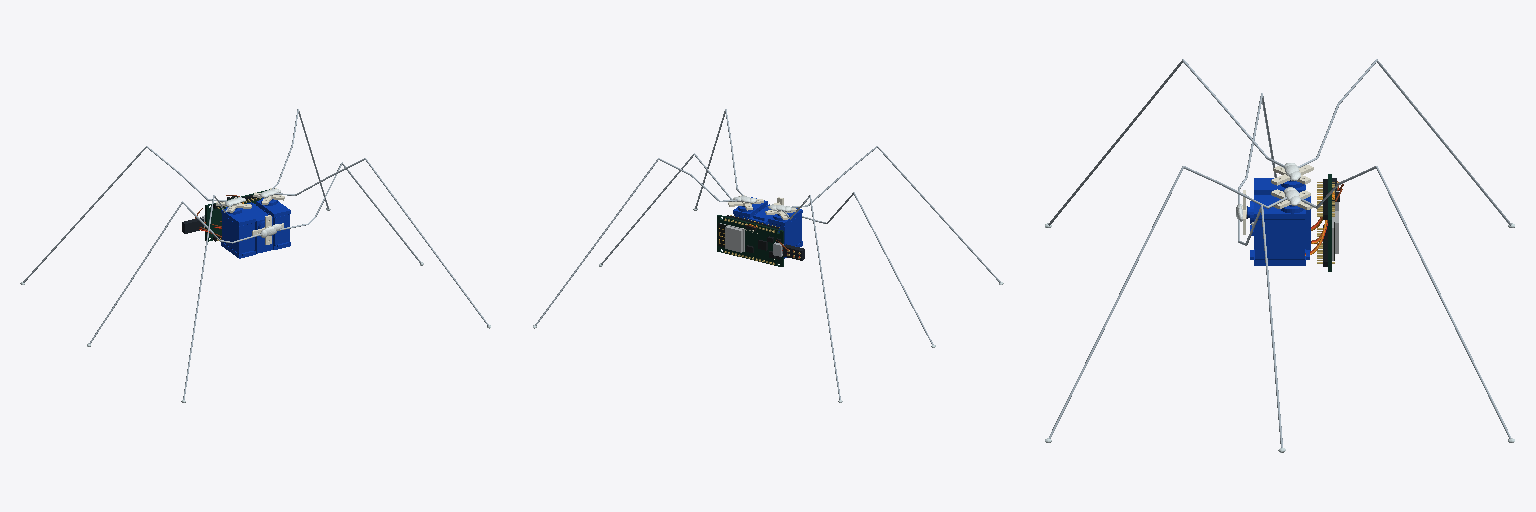
robot.urdf — Makada photo-informed hexapod:
<?xml version="1.0"?>
<!-- Photo-informed native CAD reconstruction, converted mm -> m. No measured dynamics. -->
<robot name="Makada photo-informed hexapod">
  <cutucircuits assumptions="All masses, inertia, friction and collision envelopes are estimates. Rigid wire legs and glue; no compliance or validated gait. Meshes preserve native CAD visuals. Servo effort and pulse-to-angle calibration are not measured."/>
  <link name="body">
    <inertial><origin xyz="0 0.006 0.056"/><mass value="0.047"/><inertia ixx="0.000025" ixy="0" ixz="0" iyy="0.000012" iyz="0" izz="0.000025"/></inertial>
    <collision><origin xyz="-0.013 0 0.0575"/><geometry><box size="0.012 0.023 0.029"/></geometry></collision>
    <collision><origin xyz="0.013 0 0.0575"/><geometry><box size="0.012 0.023 0.029"/></geometry></collision>
    <collision><origin xyz="0 -0.0005 0.055"/><geometry><box size="0.012 0.029 0.023"/></geometry></collision>
    <!-- Rear NodeMCU collision envelope includes inward headers and module; estimated. -->
    <collision><origin xyz="0 0.0213 0.0555"/><geometry><box size="0.050 0.010 0.026"/></geometry></collision>
    <collision><origin xyz="-0.033 0.0235 0.0555"/><geometry><box size="0.014 0.004 0.007"/></geometry></collision>
    <visual name="servo-left"><geometry><mesh filename="meshes/servo-left.stl"/></geometry><material name="servo-left"><color rgba="0.09412 0.3098 0.75686 0.96"/></material></visual>
    <visual name="servo-left-seams"><geometry><mesh filename="meshes/servo-left-seams.stl"/></geometry><material name="servo-left-seams"><color rgba="0.06275 0.21961 0.52941 1"/></material></visual>
    <visual name="servo-right"><geometry><mesh filename="meshes/servo-right.stl"/></geometry><material name="servo-right"><color rgba="0.09412 0.3098 0.75686 0.96"/></material></visual>
    <visual name="servo-right-seams"><geometry><mesh filename="meshes/servo-right-seams.stl"/></geometry><material name="servo-right-seams"><color rgba="0.06275 0.21961 0.52941 1"/></material></visual>
    <visual name="servo-tilt"><geometry><mesh filename="meshes/servo-tilt.stl"/></geometry><material name="servo-tilt"><color rgba="0.09412 0.3098 0.75686 0.96"/></material></visual>
    <visual name="servo-tilt-seams"><geometry><mesh filename="meshes/servo-tilt-seams.stl"/></geometry><material name="servo-tilt-seams"><color rgba="0.06275 0.21961 0.52941 1"/></material></visual>
    <visual name="cable-left-0"><geometry><mesh filename="meshes/cable-left-0.stl"/></geometry><material name="cable-left-0"><color rgba="0.54118 0.28627 0.16863 1"/></material></visual>
    <visual name="cable-left-1"><geometry><mesh filename="meshes/cable-left-1.stl"/></geometry><material name="cable-left-1"><color rgba="0.83137 0.26667 0.15686 1"/></material></visual>
    <visual name="cable-left-2"><geometry><mesh filename="meshes/cable-left-2.stl"/></geometry><material name="cable-left-2"><color rgba="0.92941 0.57255 0.18431 1"/></material></visual>
    <visual name="plug-left"><geometry><mesh filename="meshes/plug-left.stl"/></geometry><material name="plug-left"><color rgba="0.15686 0.17647 0.19216 1"/></material></visual>
    <visual name="cable-tilt-0"><geometry><mesh filename="meshes/cable-tilt-0.stl"/></geometry><material name="cable-tilt-0"><color rgba="0.54118 0.28627 0.16863 1"/></material></visual>
    <visual name="cable-tilt-1"><geometry><mesh filename="meshes/cable-tilt-1.stl"/></geometry><material name="cable-tilt-1"><color rgba="0.83137 0.26667 0.15686 1"/></material></visual>
    <visual name="cable-tilt-2"><geometry><mesh filename="meshes/cable-tilt-2.stl"/></geometry><material name="cable-tilt-2"><color rgba="0.92941 0.57255 0.18431 1"/></material></visual>
    <visual name="plug-tilt"><geometry><mesh filename="meshes/plug-tilt.stl"/></geometry><material name="plug-tilt"><color rgba="0.15686 0.17647 0.19216 1"/></material></visual>
    <visual name="cable-right-0"><geometry><mesh filename="meshes/cable-right-0.stl"/></geometry><material name="cable-right-0"><color rgba="0.54118 0.28627 0.16863 1"/></material></visual>
    <visual name="cable-right-1"><geometry><mesh filename="meshes/cable-right-1.stl"/></geometry><material name="cable-right-1"><color rgba="0.83137 0.26667 0.15686 1"/></material></visual>
    <visual name="cable-right-2"><geometry><mesh filename="meshes/cable-right-2.stl"/></geometry><material name="cable-right-2"><color rgba="0.92941 0.57255 0.18431 1"/></material></visual>
    <visual name="plug-right"><geometry><mesh filename="meshes/plug-right.stl"/></geometry><material name="plug-right"><color rgba="0.15686 0.17647 0.19216 1"/></material></visual>
    <visual name="controller"><geometry><mesh filename="meshes/controller.stl"/></geometry><material name="controller"><color rgba="0.09412 0.23529 0.19608 1"/></material></visual>
    <visual name="power-bus"><geometry><mesh filename="meshes/power-bus.stl"/></geometry><material name="power-bus"><color rgba="0.16078 0.18824 0.21961 1"/></material></visual>
    <visual name="controller-module"><geometry><mesh filename="meshes/controller-module.stl"/></geometry><material name="controller-module"><color rgba="0.72549 0.74118 0.74510 1"/></material></visual>
    <visual name="controller-antenna"><geometry><mesh filename="meshes/controller-antenna.stl"/></geometry><material name="controller-antenna"><color rgba="0.14118 0.15686 0.14118 1"/></material></visual>
    <visual name="controller-antenna-trace"><geometry><mesh filename="meshes/controller-antenna-trace.stl"/></geometry><material name="controller-antenna-trace"><color rgba="0.83529 0.67843 0.32549 1"/></material></visual>
    <visual name="controller-usb"><geometry><mesh filename="meshes/controller-usb.stl"/></geometry><material name="controller-usb"><color rgba="0.70588 0.72941 0.75294 1"/></material></visual>
    <visual name="controller-components"><geometry><mesh filename="meshes/controller-components.stl"/></geometry><material name="controller-components"><color rgba="0.14902 0.16863 0.18039 1"/></material></visual>
    <visual name="controller-headers"><geometry><mesh filename="meshes/controller-headers.stl"/></geometry><material name="controller-headers"><color rgba="0.11373 0.13725 0.15294 1"/></material></visual>
    <visual name="controller-labels"><geometry><mesh filename="meshes/controller-labels.stl"/></geometry><material name="controller-labels"><color rgba="0.94902 0.94118 0.85098 1"/></material></visual>
    <visual name="power-bus-pads"><geometry><mesh filename="meshes/power-bus-pads.stl"/></geometry><material name="power-bus-pads"><color rgba="0.78431 0.70196 0.43529 1"/></material></visual>
    <visual name="controller-common-ground"><geometry><mesh filename="meshes/controller-common-ground.stl"/></geometry><material name="controller-common-ground"><color rgba="0.54118 0.28627 0.16863 1"/></material></visual>
    <visual name="controller-pin-A0"><geometry><mesh filename="meshes/controller-pin-A0.stl"/></geometry><material name="controller-pin-A0"><color rgba="0.78431 0.70196 0.43529 1"/></material></visual>
    <visual name="controller-pin-RSV1"><geometry><mesh filename="meshes/controller-pin-RSV1.stl"/></geometry><material name="controller-pin-RSV1"><color rgba="0.78431 0.70196 0.43529 1"/></material></visual>
    <visual name="controller-pin-RSV2"><geometry><mesh filename="meshes/controller-pin-RSV2.stl"/></geometry><material name="controller-pin-RSV2"><color rgba="0.78431 0.70196 0.43529 1"/></material></visual>
    <visual name="controller-pin-SD3"><geometry><mesh filename="meshes/controller-pin-SD3.stl"/></geometry><material name="controller-pin-SD3"><color rgba="0.78431 0.70196 0.43529 1"/></material></visual>
    <visual name="controller-pin-SD2"><geometry><mesh filename="meshes/controller-pin-SD2.stl"/></geometry><material name="controller-pin-SD2"><color rgba="0.78431 0.70196 0.43529 1"/></material></visual>
    <visual name="controller-pin-SD1"><geometry><mesh filename="meshes/controller-pin-SD1.stl"/></geometry><material name="controller-pin-SD1"><color rgba="0.78431 0.70196 0.43529 1"/></material></visual>
    <visual name="controller-pin-CMD"><geometry><mesh filename="meshes/controller-pin-CMD.stl"/></geometry><material name="controller-pin-CMD"><color rgba="0.78431 0.70196 0.43529 1"/></material></visual>
    <visual name="controller-pin-SD0"><geometry><mesh filename="meshes/controller-pin-SD0.stl"/></geometry><material name="controller-pin-SD0"><color rgba="0.78431 0.70196 0.43529 1"/></material></visual>
    <visual name="controller-pin-CLK"><geometry><mesh filename="meshes/controller-pin-CLK.stl"/></geometry><material name="controller-pin-CLK"><color rgba="0.78431 0.70196 0.43529 1"/></material></visual>
    <visual name="controller-pin-GND-L1"><geometry><mesh filename="meshes/controller-pin-GND-L1.stl"/></geometry><material name="controller-pin-GND-L1"><color rgba="0.78431 0.70196 0.43529 1"/></material></visual>
    <visual name="controller-pin-3V3-L"><geometry><mesh filename="meshes/controller-pin-3V3-L.stl"/></geometry><material name="controller-pin-3V3-L"><color rgba="0.78431 0.70196 0.43529 1"/></material></visual>
    <visual name="controller-pin-EN"><geometry><mesh filename="meshes/controller-pin-EN.stl"/></geometry><material name="controller-pin-EN"><color rgba="0.78431 0.70196 0.43529 1"/></material></visual>
    <visual name="controller-pin-RST"><geometry><mesh filename="meshes/controller-pin-RST.stl"/></geometry><material name="controller-pin-RST"><color rgba="0.78431 0.70196 0.43529 1"/></material></visual>
    <visual name="controller-pin-GND-L2"><geometry><mesh filename="meshes/controller-pin-GND-L2.stl"/></geometry><material name="controller-pin-GND-L2"><color rgba="0.78431 0.70196 0.43529 1"/></material></visual>
    <visual name="controller-pin-VIN"><geometry><mesh filename="meshes/controller-pin-VIN.stl"/></geometry><material name="controller-pin-VIN"><color rgba="0.78431 0.70196 0.43529 1"/></material></visual>
    <visual name="controller-pin-D0"><geometry><mesh filename="meshes/controller-pin-D0.stl"/></geometry><material name="controller-pin-D0"><color rgba="0.78431 0.70196 0.43529 1"/></material></visual>
    <visual name="controller-pin-D1"><geometry><mesh filename="meshes/controller-pin-D1.stl"/></geometry><material name="controller-pin-D1"><color rgba="0.78431 0.70196 0.43529 1"/></material></visual>
    <visual name="controller-pin-D2"><geometry><mesh filename="meshes/controller-pin-D2.stl"/></geometry><material name="controller-pin-D2"><color rgba="0.78431 0.70196 0.43529 1"/></material></visual>
    <visual name="controller-pin-D3"><geometry><mesh filename="meshes/controller-pin-D3.stl"/></geometry><material name="controller-pin-D3"><color rgba="0.78431 0.70196 0.43529 1"/></material></visual>
    <visual name="controller-pin-D4"><geometry><mesh filename="meshes/controller-pin-D4.stl"/></geometry><material name="controller-pin-D4"><color rgba="0.78431 0.70196 0.43529 1"/></material></visual>
    <visual name="controller-pin-3V3-R1"><geometry><mesh filename="meshes/controller-pin-3V3-R1.stl"/></geometry><material name="controller-pin-3V3-R1"><color rgba="0.78431 0.70196 0.43529 1"/></material></visual>
    <visual name="controller-pin-GND-R1"><geometry><mesh filename="meshes/controller-pin-GND-R1.stl"/></geometry><material name="controller-pin-GND-R1"><color rgba="0.78431 0.70196 0.43529 1"/></material></visual>
    <visual name="controller-pin-D5"><geometry><mesh filename="meshes/controller-pin-D5.stl"/></geometry><material name="controller-pin-D5"><color rgba="0.93725 0.71373 0.30980 1"/></material></visual>
    <visual name="controller-pin-D6"><geometry><mesh filename="meshes/controller-pin-D6.stl"/></geometry><material name="controller-pin-D6"><color rgba="0.93725 0.71373 0.30980 1"/></material></visual>
    <visual name="controller-pin-D7"><geometry><mesh filename="meshes/controller-pin-D7.stl"/></geometry><material name="controller-pin-D7"><color rgba="0.93725 0.71373 0.30980 1"/></material></visual>
    <visual name="controller-pin-D8"><geometry><mesh filename="meshes/controller-pin-D8.stl"/></geometry><material name="controller-pin-D8"><color rgba="0.78431 0.70196 0.43529 1"/></material></visual>
    <visual name="controller-pin-RX"><geometry><mesh filename="meshes/controller-pin-RX.stl"/></geometry><material name="controller-pin-RX"><color rgba="0.78431 0.70196 0.43529 1"/></material></visual>
    <visual name="controller-pin-TX"><geometry><mesh filename="meshes/controller-pin-TX.stl"/></geometry><material name="controller-pin-TX"><color rgba="0.78431 0.70196 0.43529 1"/></material></visual>
    <visual name="controller-pin-GND-R2"><geometry><mesh filename="meshes/controller-pin-GND-R2.stl"/></geometry><material name="controller-pin-GND-R2"><color rgba="0.78431 0.70196 0.43529 1"/></material></visual>
    <visual name="controller-pin-3V3-R2"><geometry><mesh filename="meshes/controller-pin-3V3-R2.stl"/></geometry><material name="controller-pin-3V3-R2"><color rgba="0.78431 0.70196 0.43529 1"/></material></visual>
    <visual name="body"><geometry><mesh filename="meshes/body.stl"/></geometry><material name="body"><color rgba="0.85882 0.90196 0.9098 0.55"/></material></visual>
  </link>
  <link name="left_wire_pair">
    <inertial><mass value="0.005"/><inertia ixx="0.00003" ixy="0" ixz="0" iyy="0.00003" iyz="0" izz="0.00004"/></inertial>
    <collision><origin xyz="-0.00650000 -0.00550000 0.00120000" rpy="0 1.5707963268 -2.4393357221"/><geometry><cylinder radius="0.00055" length="0.01702939"/></geometry></collision>
    <collision><origin xyz="-0.02100000 -0.02125000 0.01070000" rpy="0 0.9398050075 -2.2335258347"/><geometry><cylinder radius="0.00055" length="0.03220637"/></geometry></collision>
    <collision><origin xyz="-0.03600000 -0.04000000 0.02770000" rpy="0 0.9728576775 -2.2597207150"/><geometry><cylinder radius="0.00055" length="0.02664583"/></geometry></collision>
    <collision><origin xyz="-0.07150000 -0.07850000 -0.01870000" rpy="0 2.4868557992 -2.3305590817"/><geometry><cylinder radius="0.00055" length="0.13590379"/></geometry></collision>
    <collision><origin xyz="-0.10000000 -0.10850000 -0.07260000"/><geometry><sphere radius="0.0015"/></geometry></collision>
    <collision><origin xyz="-0.00650000 0.00550000 0.00120000" rpy="0 1.5707963268 2.4393357221"/><geometry><cylinder radius="0.00055" length="0.01702939"/></geometry></collision>
    <collision><origin xyz="-0.02100000 0.01575000 0.01070000" rpy="0 0.7749696944 2.6057814156"/><geometry><cylinder radius="0.00055" length="0.02659417"/></geometry></collision>
    <collision><origin xyz="-0.03600000 0.02900000 0.02770000" rpy="0 0.9728576775 2.2597207150"/><geometry><cylinder radius="0.00055" length="0.02664583"/></geometry></collision>
    <collision><origin xyz="-0.07150000 0.06750000 -0.01870000" rpy="0 2.4868557992 2.3305590817"/><geometry><cylinder radius="0.00055" length="0.13590379"/></geometry></collision>
    <collision><origin xyz="-0.10000000 0.09750000 -0.07260000"/><geometry><sphere radius="0.0015"/></geometry></collision>
    <visual name="horn-left"><geometry><mesh filename="meshes/horn-left.stl"/></geometry><material name="horn-left"><color rgba="0.9451 0.93725 0.87451 1"/></material></visual>
    <visual name="horn-left-screw"><geometry><mesh filename="meshes/horn-left-screw.stl"/></geometry><material name="horn-left-screw"><color rgba="0.70196 0.7098 0.69804 1"/></material></visual>
    <visual name="glue-left"><geometry><mesh filename="meshes/glue-left.stl"/></geometry><material name="glue-left"><color rgba="0.8902 0.92549 0.92941 0.6"/></material></visual>
    <visual name="leg-left-1"><geometry><mesh filename="meshes/leg-left-1.stl"/></geometry><material name="leg-left-1"><color rgba="0.72549 0.77647 0.81569 1"/></material></visual>
    <visual name="foot-left-1"><geometry><mesh filename="meshes/foot-left-1.stl"/></geometry><material name="foot-left-1"><color rgba="0.82353 0.87843 0.8902 0.65"/></material></visual>
    <visual name="leg-left-3"><geometry><mesh filename="meshes/leg-left-3.stl"/></geometry><material name="leg-left-3"><color rgba="0.72549 0.77647 0.81569 1"/></material></visual>
    <visual name="foot-left-3"><geometry><mesh filename="meshes/foot-left-3.stl"/></geometry><material name="foot-left-3"><color rgba="0.82353 0.87843 0.8902 0.65"/></material></visual>
  </link>
  <link name="right_wire_pair">
    <inertial><mass value="0.005"/><inertia ixx="0.00003" ixy="0" ixz="0" iyy="0.00003" iyz="0" izz="0.00004"/></inertial>
    <collision><origin xyz="0.00650000 -0.00550000 0.00120000" rpy="0 1.5707963268 -0.7022569315"/><geometry><cylinder radius="0.00055" length="0.01702939"/></geometry></collision>
    <collision><origin xyz="0.02100000 -0.02125000 0.01070000" rpy="0 0.9398050075 -0.9080668189"/><geometry><cylinder radius="0.00055" length="0.03220637"/></geometry></collision>
    <collision><origin xyz="0.03600000 -0.04000000 0.02770000" rpy="0 0.9728576775 -0.8818719386"/><geometry><cylinder radius="0.00055" length="0.02664583"/></geometry></collision>
    <collision><origin xyz="0.07150000 -0.07850000 -0.01870000" rpy="0 2.4868557992 -0.8110335719"/><geometry><cylinder radius="0.00055" length="0.13590379"/></geometry></collision>
    <collision><origin xyz="0.10000000 -0.10850000 -0.07260000"/><geometry><sphere radius="0.0015"/></geometry></collision>
    <collision><origin xyz="0.00650000 0.00550000 0.00120000" rpy="0 1.5707963268 0.7022569315"/><geometry><cylinder radius="0.00055" length="0.01702939"/></geometry></collision>
    <collision><origin xyz="0.02100000 0.01575000 0.01070000" rpy="0 0.7749696944 0.5358112380"/><geometry><cylinder radius="0.00055" length="0.02659417"/></geometry></collision>
    <collision><origin xyz="0.03600000 0.02900000 0.02770000" rpy="0 0.9728576775 0.8818719386"/><geometry><cylinder radius="0.00055" length="0.02664583"/></geometry></collision>
    <collision><origin xyz="0.07150000 0.06750000 -0.01870000" rpy="0 2.4868557992 0.8110335719"/><geometry><cylinder radius="0.00055" length="0.13590379"/></geometry></collision>
    <collision><origin xyz="0.10000000 0.09750000 -0.07260000"/><geometry><sphere radius="0.0015"/></geometry></collision>
    <visual name="horn-right"><geometry><mesh filename="meshes/horn-right.stl"/></geometry><material name="horn-right"><color rgba="0.9451 0.93725 0.87451 1"/></material></visual>
    <visual name="horn-right-screw"><geometry><mesh filename="meshes/horn-right-screw.stl"/></geometry><material name="horn-right-screw"><color rgba="0.70196 0.7098 0.69804 1"/></material></visual>
    <visual name="glue-right"><geometry><mesh filename="meshes/glue-right.stl"/></geometry><material name="glue-right"><color rgba="0.8902 0.92549 0.92941 0.6"/></material></visual>
    <visual name="leg-right-1"><geometry><mesh filename="meshes/leg-right-1.stl"/></geometry><material name="leg-right-1"><color rgba="0.72549 0.77647 0.81569 1"/></material></visual>
    <visual name="foot-right-1"><geometry><mesh filename="meshes/foot-right-1.stl"/></geometry><material name="foot-right-1"><color rgba="0.82353 0.87843 0.8902 0.65"/></material></visual>
    <visual name="leg-right-3"><geometry><mesh filename="meshes/leg-right-3.stl"/></geometry><material name="leg-right-3"><color rgba="0.72549 0.77647 0.81569 1"/></material></visual>
    <visual name="foot-right-3"><geometry><mesh filename="meshes/foot-right-3.stl"/></geometry><material name="foot-right-3"><color rgba="0.82353 0.87843 0.8902 0.65"/></material></visual>
  </link>
  <link name="middle_wire_pair">
    <inertial><mass value="0.005"/><inertia ixx="0.00003" ixy="0" ixz="0" iyy="0.00003" iyz="0" izz="0.00004"/></inertial>
    <collision><origin xyz="-0.01400000 -0.00170000 -0.00065000" rpy="0 1.6171915806 3.1415926536"/><geometry><cylinder radius="0.00055" length="0.02803016"/></geometry></collision>
    <collision><origin xyz="-0.03150000 -0.00010000 -0.00040000" rpy="0 1.3410603658 2.7128146261"/><geometry><cylinder radius="0.00055" length="0.00790443"/></geometry></collision>
    <collision><origin xyz="-0.04700000 0.00500000 0.01550000" rpy="0 0.6947382762 2.8577985444"/><geometry><cylinder radius="0.00055" length="0.03905125"/></geometry></collision>
    <collision><origin xyz="-0.09100000 0.01300000 -0.01440000" rpy="0 2.5177624035 3.0018837793"/><geometry><cylinder radius="0.00055" length="0.11063923"/></geometry></collision>
    <collision><origin xyz="-0.12300000 0.01750000 -0.05930000"/><geometry><sphere radius="0.0015"/></geometry></collision>
    <collision><origin xyz="0.01400000 -0.00170000 -0.00065000" rpy="0 1.6171915806 0.0000000000"/><geometry><cylinder radius="0.00055" length="0.02803016"/></geometry></collision>
    <collision><origin xyz="0.03150000 -0.00010000 -0.00040000" rpy="0 1.3410603658 0.4287780274"/><geometry><cylinder radius="0.00055" length="0.00790443"/></geometry></collision>
    <collision><origin xyz="0.04700000 0.00500000 0.01550000" rpy="0 0.6947382762 0.2837941092"/><geometry><cylinder radius="0.00055" length="0.03905125"/></geometry></collision>
    <collision><origin xyz="0.09100000 0.01300000 -0.01440000" rpy="0 2.5177624035 0.1397088743"/><geometry><cylinder radius="0.00055" length="0.11063923"/></geometry></collision>
    <collision><origin xyz="0.12300000 0.01750000 -0.05930000"/><geometry><sphere radius="0.0015"/></geometry></collision>
    <visual name="horn-tilt"><geometry><mesh filename="meshes/horn-tilt.stl"/></geometry><material name="horn-tilt"><color rgba="0.9451 0.93725 0.87451 1"/></material></visual>
    <visual name="horn-tilt-screw"><geometry><mesh filename="meshes/horn-tilt-screw.stl"/></geometry><material name="horn-tilt-screw"><color rgba="0.70196 0.7098 0.69804 1"/></material></visual>
    <visual name="glue-tilt"><geometry><mesh filename="meshes/glue-tilt.stl"/></geometry><material name="glue-tilt"><color rgba="0.8902 0.92549 0.92941 0.6"/></material></visual>
    <visual name="leg-left-2"><geometry><mesh filename="meshes/leg-left-2.stl"/></geometry><material name="leg-left-2"><color rgba="0.72549 0.77647 0.81569 1"/></material></visual>
    <visual name="foot-left-2"><geometry><mesh filename="meshes/foot-left-2.stl"/></geometry><material name="foot-left-2"><color rgba="0.82353 0.87843 0.8902 0.65"/></material></visual>
    <visual name="leg-right-2"><geometry><mesh filename="meshes/leg-right-2.stl"/></geometry><material name="leg-right-2"><color rgba="0.72549 0.77647 0.81569 1"/></material></visual>
    <visual name="foot-right-2"><geometry><mesh filename="meshes/foot-right-2.stl"/></geometry><material name="foot-right-2"><color rgba="0.82353 0.87843 0.8902 0.65"/></material></visual>
  </link>
  <joint name="left" type="revolute"><parent link="body"/><child link="left_wire_pair"/><origin xyz="-0.013 0.0055 0.07379999999999999"/><axis xyz="0 0 1"/><limit lower="-0.65" upper="0.65"/></joint>
  <joint name="right" type="revolute"><parent link="body"/><child link="right_wire_pair"/><origin xyz="0.013 0.0055 0.07379999999999999"/><axis xyz="0 0 1"/><limit lower="-0.65" upper="0.65"/></joint>
  <joint name="tilt" type="revolute"><parent link="body"/><child link="middle_wire_pair"/><origin xyz="0.0 -0.0165 0.0605"/><axis xyz="0 1 0"/><limit lower="-0.65" upper="0.65"/></joint>
</robot>

--- Render facts (derived) ---
The picture shows the robot from 3 angles, left to right: view 1: azimuth 30°, elevation 25°; view 2: azimuth 150°, elevation 25°; view 3: azimuth 270°, elevation 25°; orthographic projection.
Model Makada photo-informed hexapod with 4 links and 3 joints (3 revolute), rooted at body, posed all joints at 0.
Links seen in each view (by area): view 1: body, middle_wire_pair, left_wire_pair, right_wire_pair; view 2: body, left_wire_pair, right_wire_pair, middle_wire_pair; view 3: body, right_wire_pair, left_wire_pair, middle_wire_pair.
Link boxes in pixels (x1=…): body: x1=182, y1=189, x2=290, y2=258; middle_wire_pair: x1=87, y1=162, x2=423, y2=346; left_wire_pair: x1=20, y1=146, x2=251, y2=402; right_wire_pair: x1=253, y1=109, x2=490, y2=328; body: x1=717, y1=197, x2=804, y2=266; left_wire_pair: x1=765, y1=146, x2=1003, y2=402; right_wire_pair: x1=533, y1=109, x2=763, y2=328; middle_wire_pair: x1=599, y1=153, x2=935, y2=347; body: x1=1247, y1=174, x2=1343, y2=271; right_wire_pair: x1=1045, y1=166, x2=1514, y2=442; left_wire_pair: x1=1045, y1=59, x2=1514, y2=227; middle_wire_pair: x1=1236, y1=93, x2=1285, y2=452.
Bounding box of the posed robot: 0.2486 × 0.2094 × 0.1094 m (x, y, z).
Meshes: 81 distinct files referenced, 81 mesh visuals loaded (81 binary STL).
